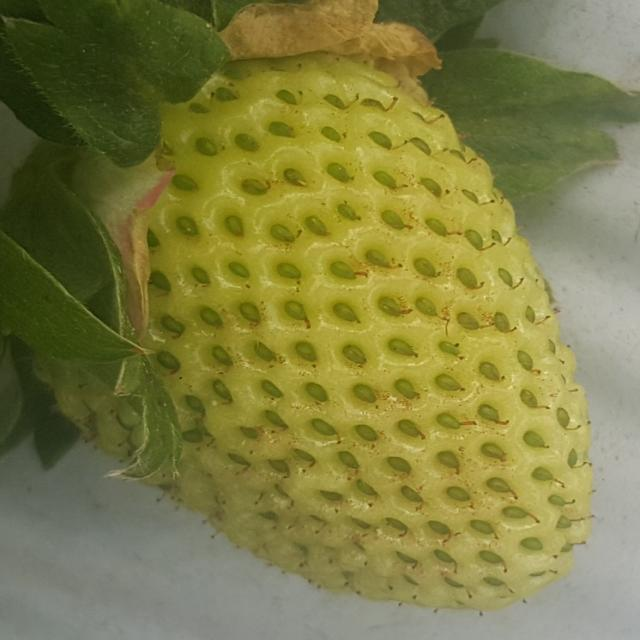Strawberry: (4, 28, 602, 613)
